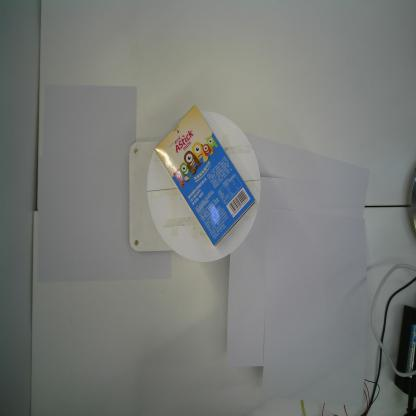Dessert: (154, 104, 257, 249)
